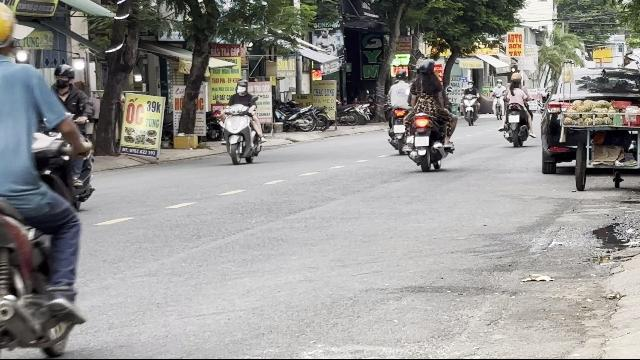helmet: (417, 58, 435, 76), (236, 78, 248, 94)
licenseplate: (415, 137, 429, 147)
motorcyclist: (1, 1, 93, 358), (408, 57, 457, 171), (220, 78, 264, 164)
